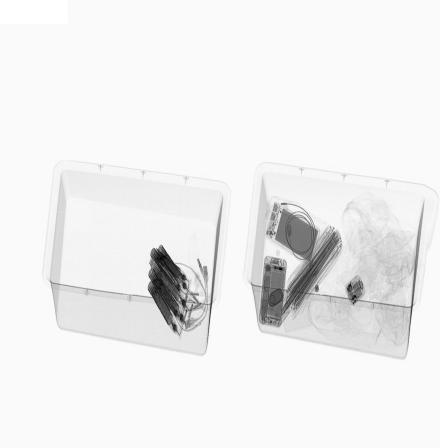Powerbank: (264, 200, 319, 266)
